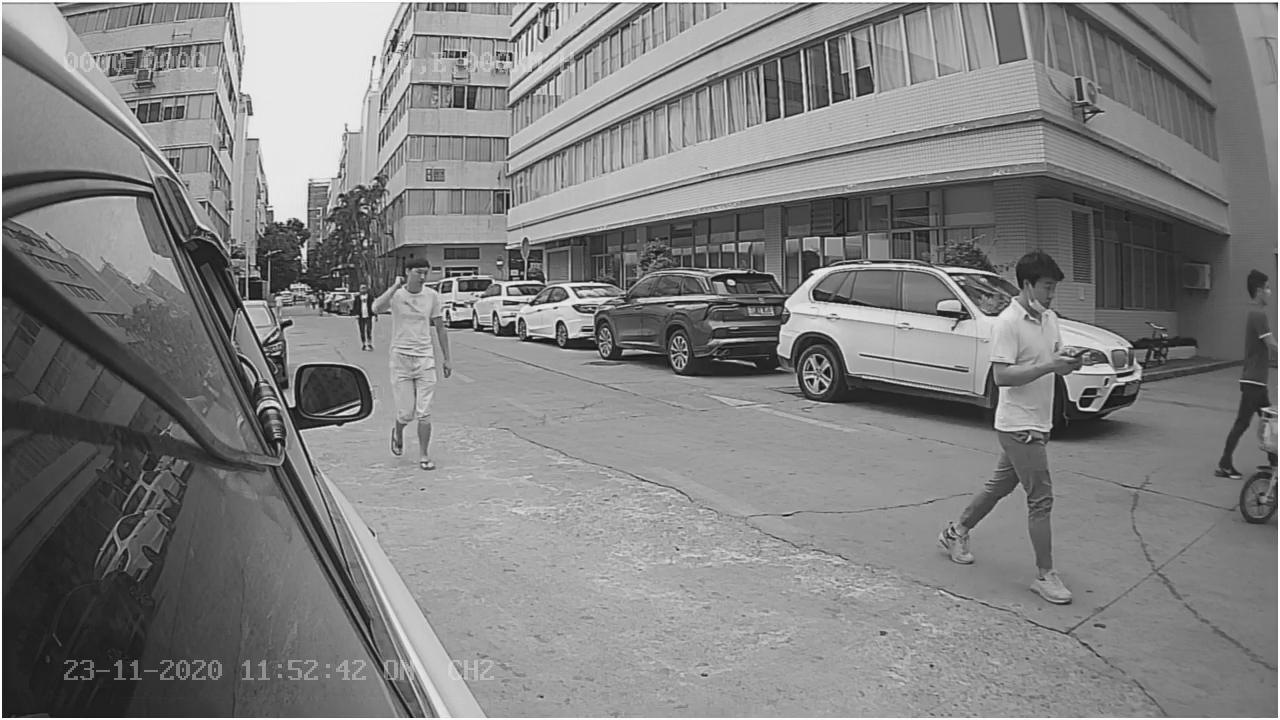person: (969, 246, 1078, 602), (377, 251, 448, 468)
